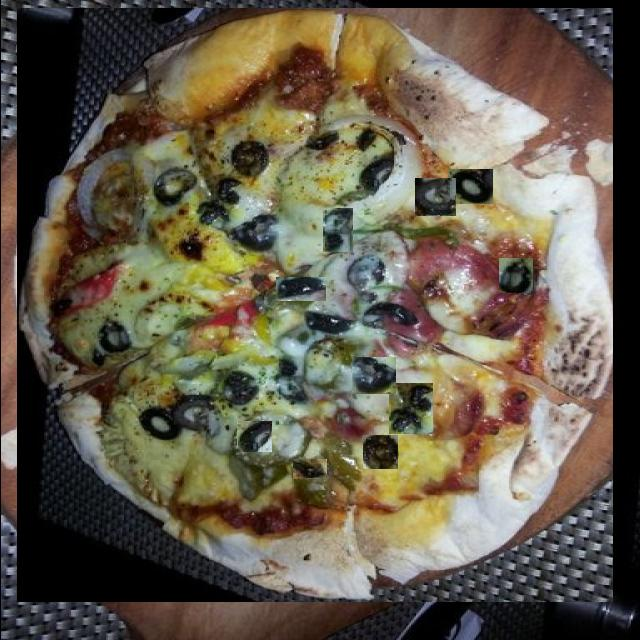olive: (388, 383, 432, 434), (434, 404, 476, 444), (351, 358, 395, 396), (447, 169, 492, 204), (414, 178, 455, 216), (212, 283, 266, 308), (243, 321, 283, 354), (322, 208, 352, 252), (370, 204, 406, 238), (275, 277, 325, 301), (498, 258, 532, 293), (362, 435, 397, 469), (236, 421, 271, 452), (292, 459, 326, 479)
pizza: (16, 8, 612, 602)
